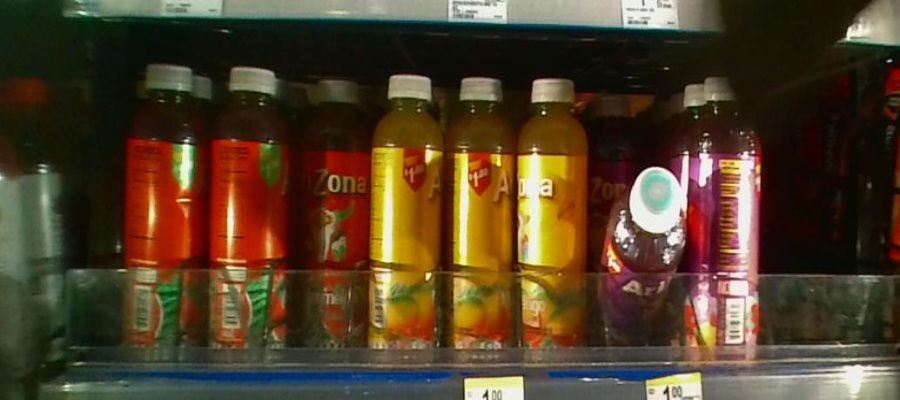bottle: (118, 57, 201, 371), (204, 67, 284, 370), (367, 68, 447, 366), (521, 74, 592, 384), (691, 70, 765, 361), (447, 78, 519, 369), (302, 82, 365, 362), (601, 160, 688, 337)
